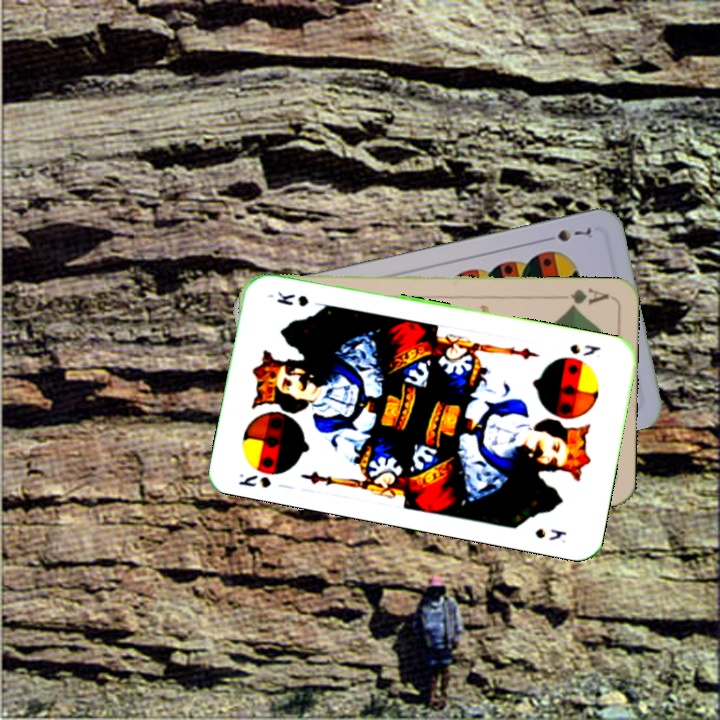GA: (554, 284, 612, 311)
S7: (538, 223, 594, 245)
SK: (234, 469, 291, 491), (566, 340, 604, 359)
